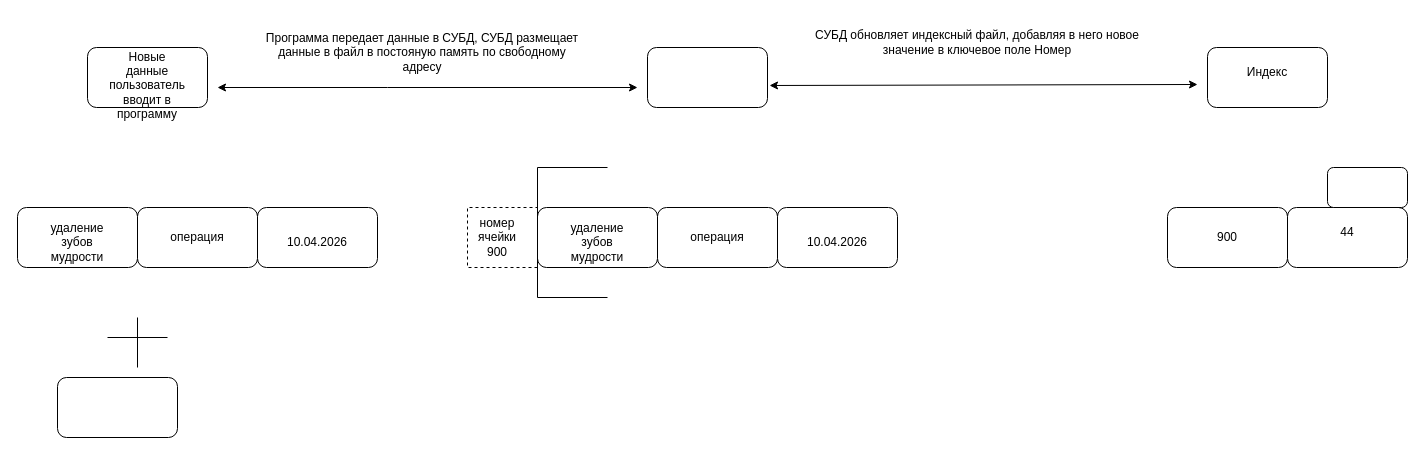
This 1425x455 diagram has some shape labels left out. Here are the shapes that lost their labels. From the top down, the centre of each, then its label:
(x=707, y=77): Память
(x=1367, y=187): Ключ "номер"
(x=117, y=407): ключевое поле "номер"
